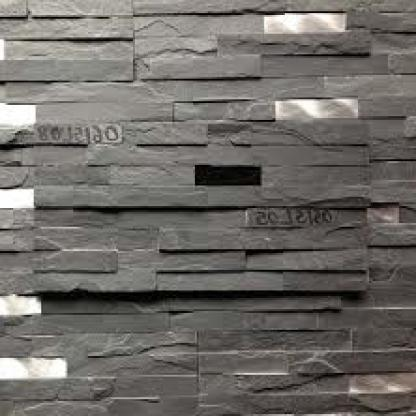Metamorphic_Quartize: (2, 32, 137, 88), (144, 45, 266, 82), (244, 244, 369, 272), (172, 94, 280, 124), (105, 158, 200, 186)
